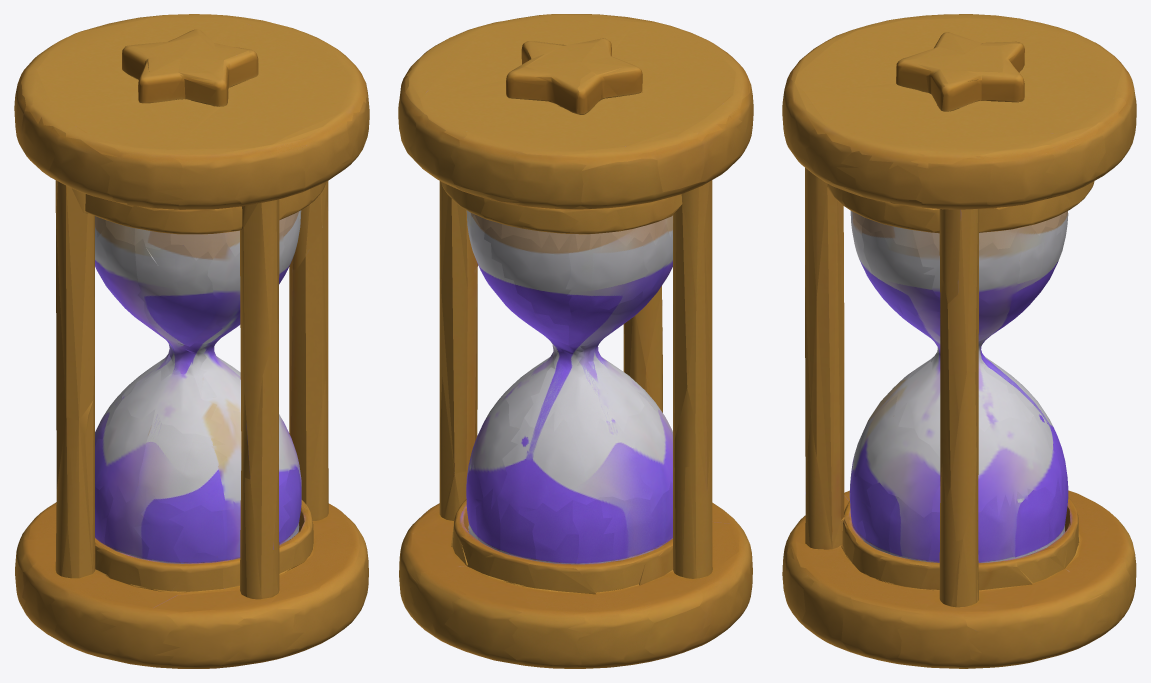
The model's file is star_hourglass.glb.
3 renders of one model, left to right at view 1: azimuth 30°, elevation 25°; view 2: azimuth 150°, elevation 25°; view 3: azimuth 270°, elevation 25°, orthographic.
Size of the model in its own units: 1.13 by 1.9 by 1.13.
Materials: 1 (1 with a texture image).
